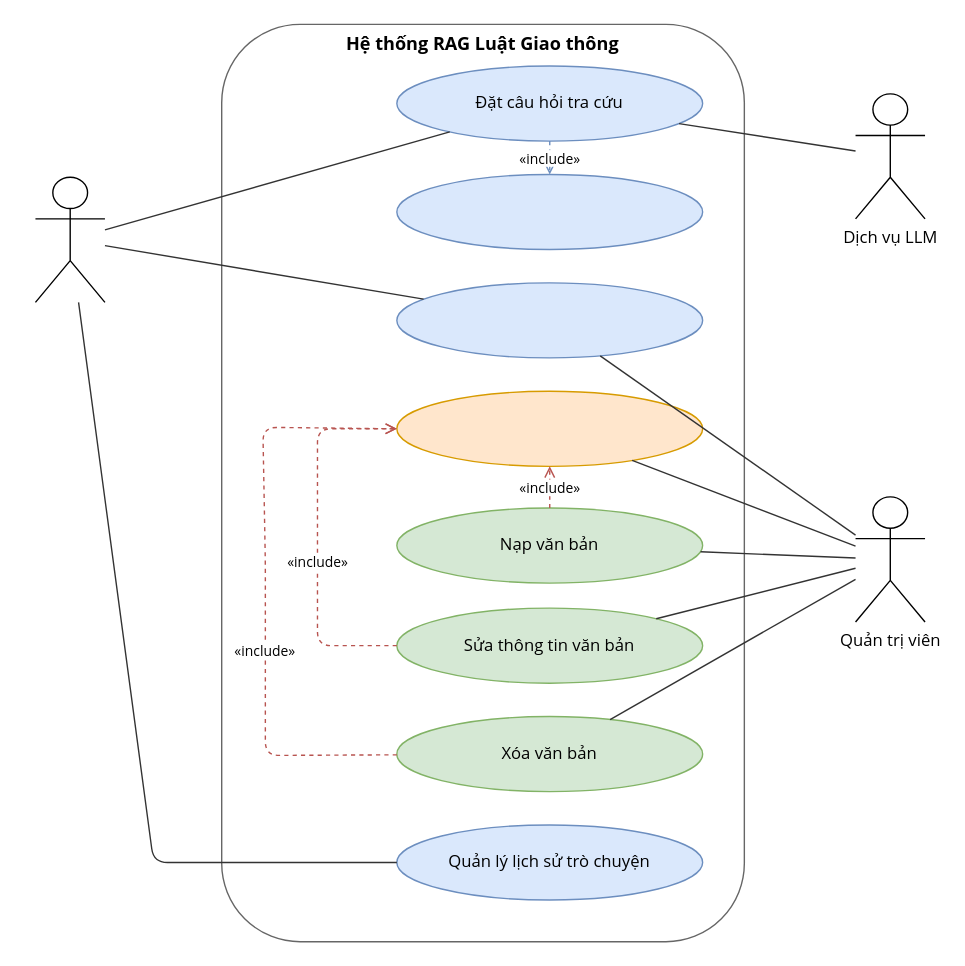
Image size: 965x966. Some labels were removed from this diagram. The shapes that lost their labels are listed below. From the top down, each one's box as (x1, y1, x2, y2) in pixels, then its label:
(395, 173, 703, 250): Xem trả lời và trích dẫn
(34, 176, 105, 302): Người dùng
(395, 281, 703, 358): Xem danh sách văn bản
(395, 390, 703, 466): Đăng nhập admin
